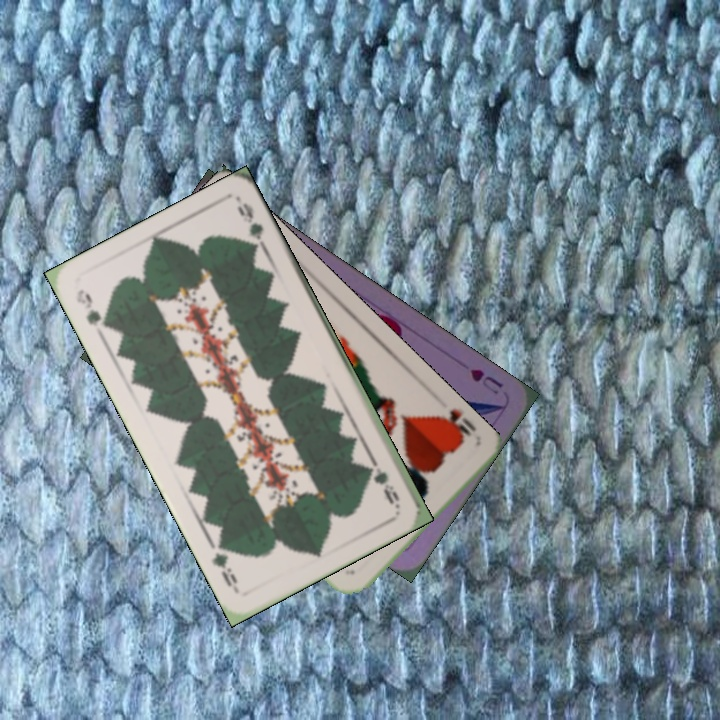G9: (72, 285, 113, 333), (367, 454, 402, 510)
HO: (432, 404, 479, 446)
HU: (466, 364, 506, 397)
